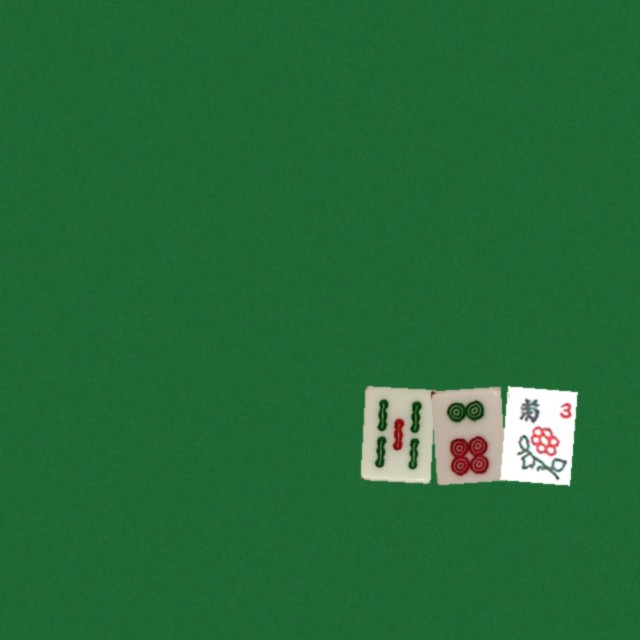tile: (360, 386, 430, 480), (430, 386, 500, 480), (500, 386, 570, 480)
